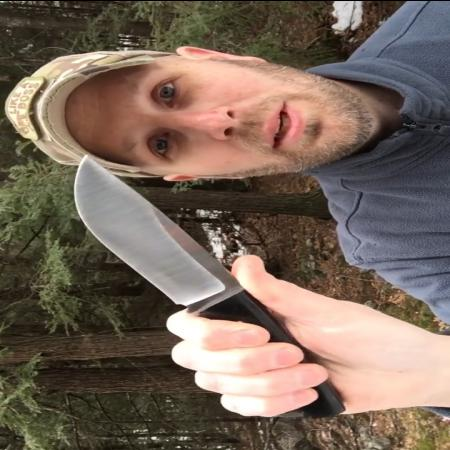long weapon: (68, 150, 320, 362)
